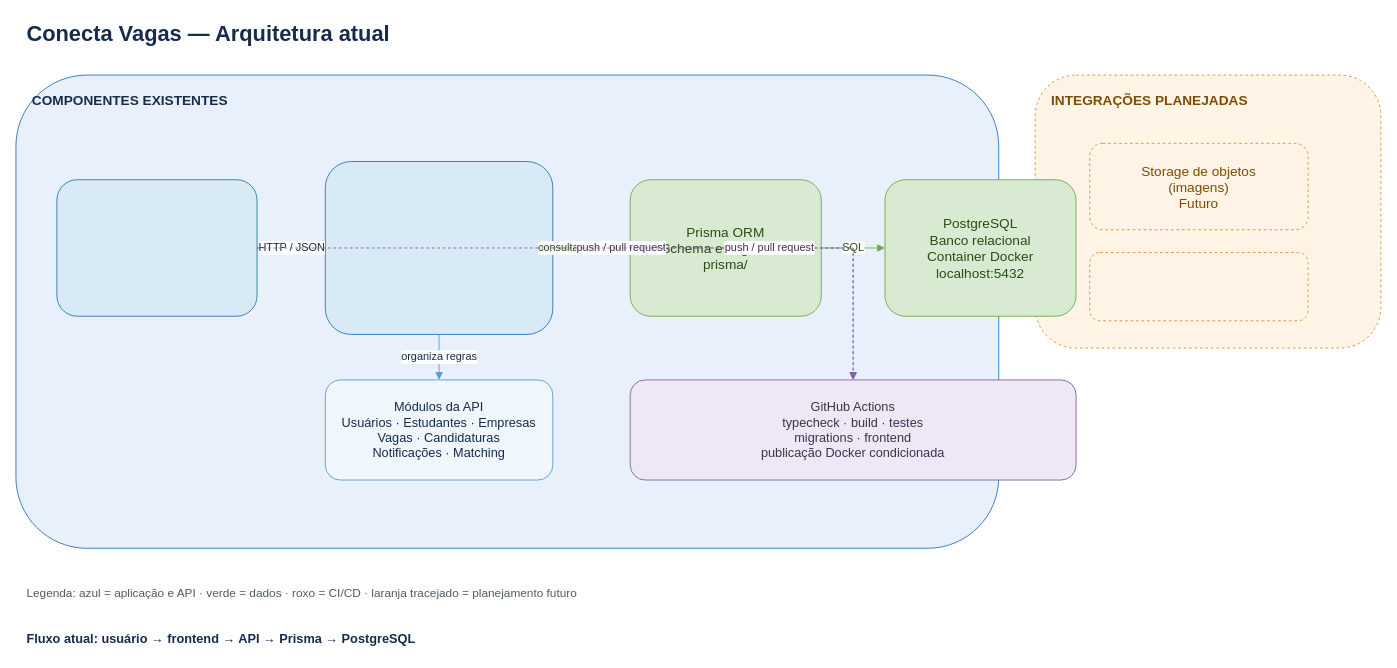
This 1397x668 diagram has some shape labels left out. The shapes that lost their labels are listed below. From the top down, each one's centre as x and y in pixels, then its label:
the point at 156,247: Frontend React 19 · Vite React Router apps/web localhost:5173
the point at 438,247: API Fastify TypeScript · Node.js JWT · bcryptjs CORS · rate limit localhost:3333
the point at 1198,286: Groq / LLM (integração futura)
